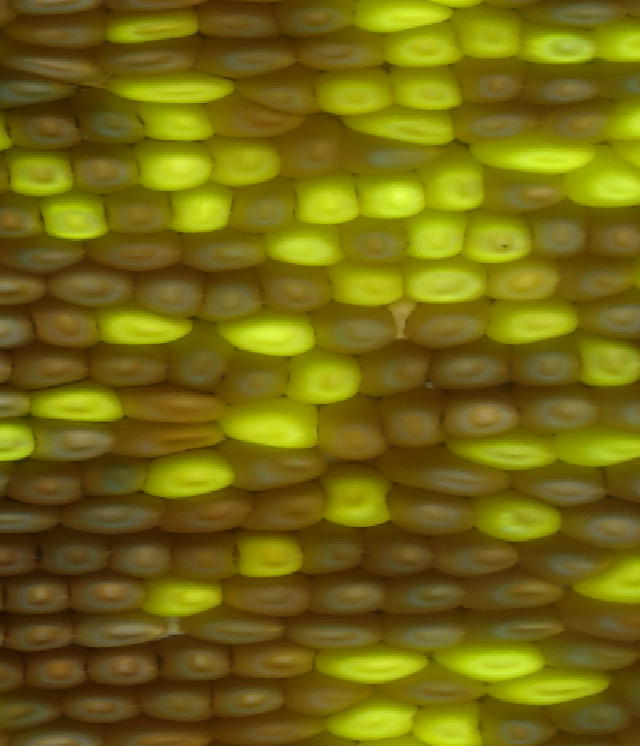fluorescent: (465, 667, 622, 713), (469, 123, 601, 177), (470, 487, 573, 550), (215, 302, 320, 362), (317, 638, 431, 693), (314, 464, 402, 533), (316, 693, 422, 746), (228, 519, 314, 583), (220, 397, 325, 449), (451, 429, 564, 477), (398, 254, 495, 309), (136, 446, 237, 498), (128, 137, 217, 196), (258, 219, 351, 275), (438, 639, 554, 683), (285, 345, 367, 407), (344, 104, 459, 148), (200, 135, 290, 191), (109, 72, 243, 109), (459, 208, 537, 270), (484, 295, 584, 343), (564, 150, 640, 211), (326, 256, 410, 311), (26, 382, 133, 425), (356, 165, 433, 224), (98, 1, 206, 43), (1, 141, 79, 199), (290, 170, 367, 228), (162, 178, 236, 238), (306, 65, 394, 114), (570, 330, 640, 391), (96, 303, 193, 346), (575, 543, 640, 607), (426, 151, 489, 217), (390, 60, 469, 111), (516, 18, 601, 65), (39, 190, 114, 243), (132, 101, 226, 143), (139, 574, 227, 618), (384, 19, 463, 67), (409, 206, 469, 269), (452, 7, 523, 60), (551, 425, 640, 465), (351, 1, 458, 34), (410, 703, 490, 746), (599, 14, 640, 69), (0, 414, 39, 464), (604, 91, 640, 143)
nonfluorescent: (370, 448, 511, 501), (341, 123, 453, 181), (0, 35, 126, 86), (460, 562, 565, 622), (380, 477, 480, 538), (286, 520, 379, 585), (512, 535, 617, 591), (115, 382, 239, 429), (225, 435, 328, 491), (232, 64, 335, 119), (385, 659, 491, 712), (352, 522, 444, 582), (437, 386, 530, 445), (22, 413, 122, 467), (58, 486, 168, 535), (430, 530, 527, 585), (83, 230, 196, 277), (257, 255, 337, 320), (314, 397, 394, 462), (335, 208, 423, 267), (81, 338, 172, 395), (479, 160, 575, 214), (305, 299, 401, 353), (139, 260, 214, 329), (480, 699, 589, 746), (174, 604, 285, 650), (401, 295, 495, 349), (351, 339, 437, 398), (554, 582, 640, 641), (91, 35, 207, 78), (515, 381, 601, 439), (53, 260, 142, 316), (520, 197, 593, 265), (537, 627, 640, 675), (194, 34, 306, 78), (167, 532, 258, 586), (158, 487, 254, 538), (109, 418, 228, 459), (180, 224, 277, 274), (225, 176, 304, 237), (374, 390, 453, 451), (73, 86, 148, 150), (101, 186, 188, 241), (277, 119, 354, 181), (9, 9, 115, 54), (217, 572, 318, 619), (554, 496, 640, 551), (296, 27, 394, 75), (205, 95, 309, 140), (59, 567, 149, 619), (0, 229, 99, 276), (515, 461, 606, 512), (278, 613, 388, 655), (244, 488, 344, 534), (28, 295, 107, 353), (439, 339, 518, 396), (511, 337, 591, 393), (537, 98, 623, 150), (375, 611, 479, 654), (68, 140, 149, 195), (280, 672, 381, 716), (307, 565, 394, 616), (563, 251, 637, 309), (4, 99, 88, 150), (7, 457, 89, 508), (220, 351, 294, 407), (449, 99, 543, 143), (2, 569, 80, 622), (105, 534, 191, 582), (11, 339, 90, 391), (72, 609, 177, 648), (170, 325, 230, 393), (80, 643, 163, 692), (220, 707, 323, 746), (159, 634, 236, 686), (543, 699, 640, 740), (528, 64, 618, 108), (580, 199, 640, 265), (236, 637, 321, 683), (132, 686, 227, 727), (77, 453, 156, 502), (16, 649, 98, 696), (39, 530, 116, 580), (193, 1, 284, 43), (0, 59, 79, 107), (200, 270, 264, 328), (468, 611, 578, 644), (570, 295, 640, 346), (401, 570, 468, 623), (0, 190, 58, 248), (210, 676, 290, 718), (458, 57, 531, 103), (525, 2, 635, 32), (0, 614, 77, 656), (278, 1, 358, 39), (60, 688, 144, 724), (0, 499, 59, 545), (0, 693, 69, 730), (0, 265, 53, 313), (594, 380, 640, 435), (0, 530, 48, 577), (0, 301, 41, 355), (0, 376, 38, 424), (602, 56, 640, 103), (606, 450, 640, 501)
